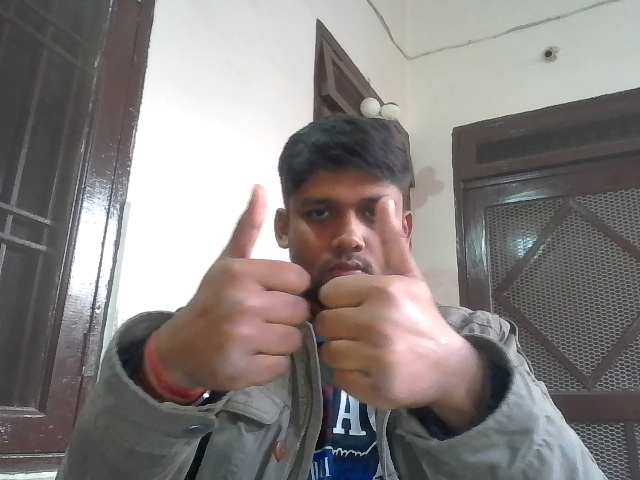Excellent: (187, 186, 440, 414)
